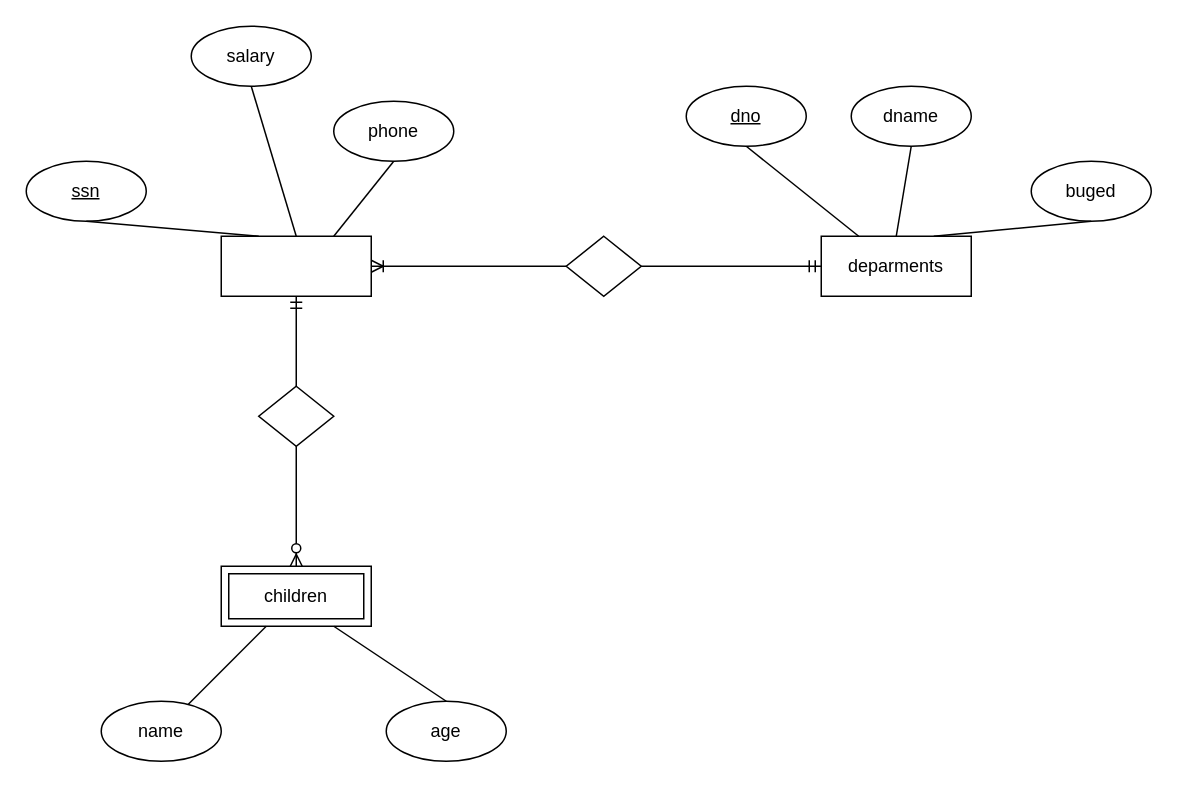
Some shapes in this 1178 by 788 pixel diagram are drawn without their labels. Here are the shapes that lost their labels. From the top down, the centre of each, then its label:
At pixel 295 265: "employee".
At pixel 603 265: "work".
At pixel 295 415: "has".
